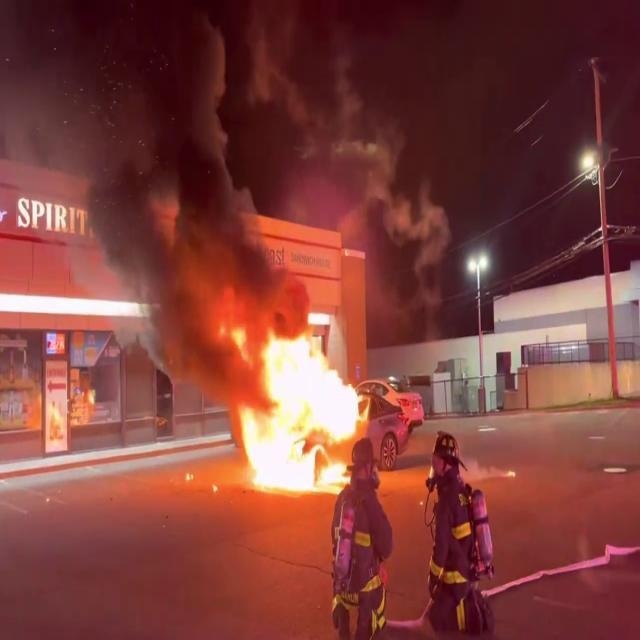Fire: (230, 310, 370, 496)
Smoke: (0, 0, 288, 321)
